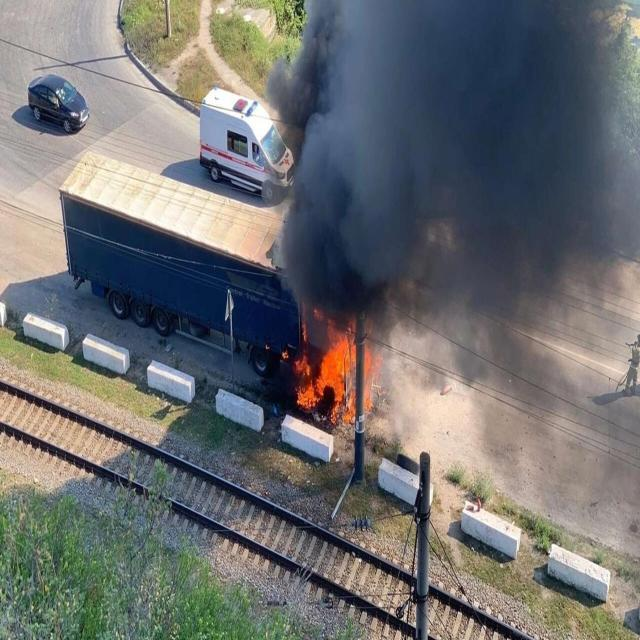Fire: (294, 310, 379, 424)
Smoke: (266, 0, 640, 458)
